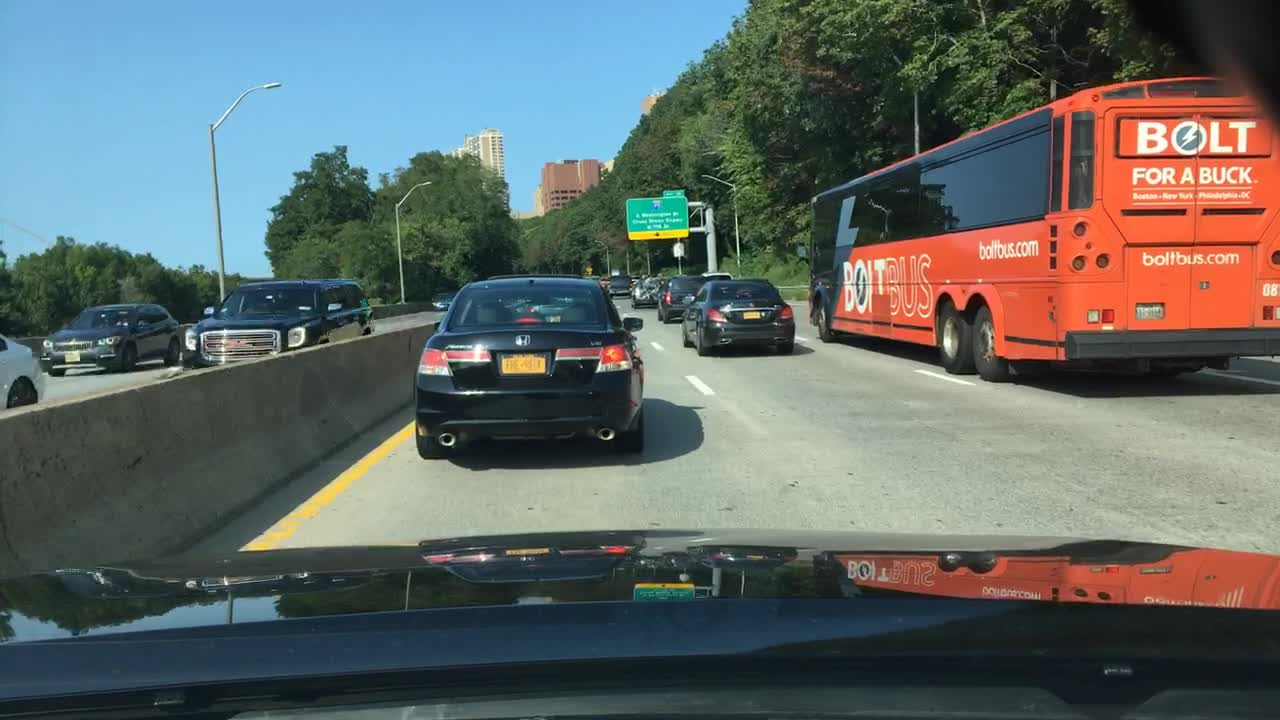bus: (793, 73, 1279, 383)
car: (410, 279, 645, 459), (179, 277, 373, 368), (39, 301, 186, 378), (679, 277, 793, 356), (0, 334, 44, 412), (653, 274, 704, 324), (631, 277, 670, 306), (431, 287, 459, 313), (604, 272, 631, 297), (699, 272, 733, 286)
traffic sign: (625, 196, 687, 238), (660, 188, 684, 196), (672, 243, 685, 255)
